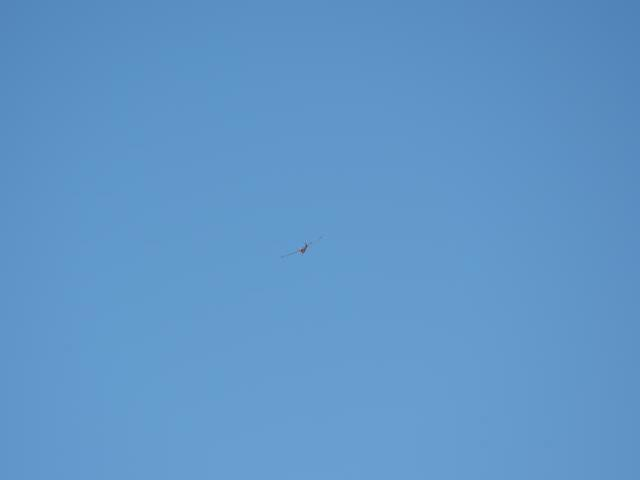iha: (279, 230, 321, 260)
